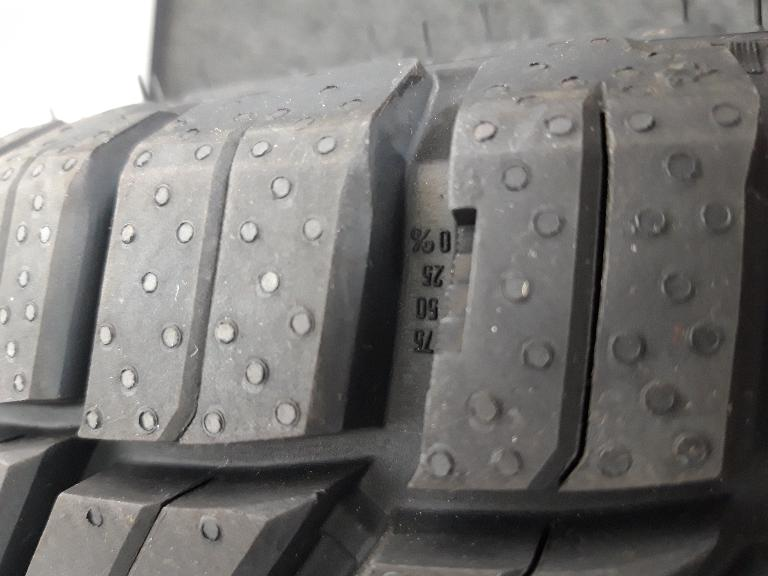temoin:100: (426, 205, 480, 381)
